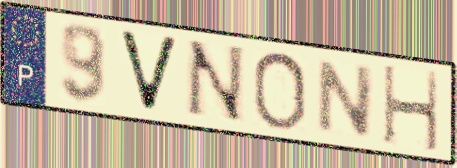9: (57, 21, 108, 108)
H: (380, 63, 441, 155)
N: (181, 37, 247, 126), (314, 57, 378, 140)
O: (250, 50, 309, 132)
V: (115, 26, 182, 116)
